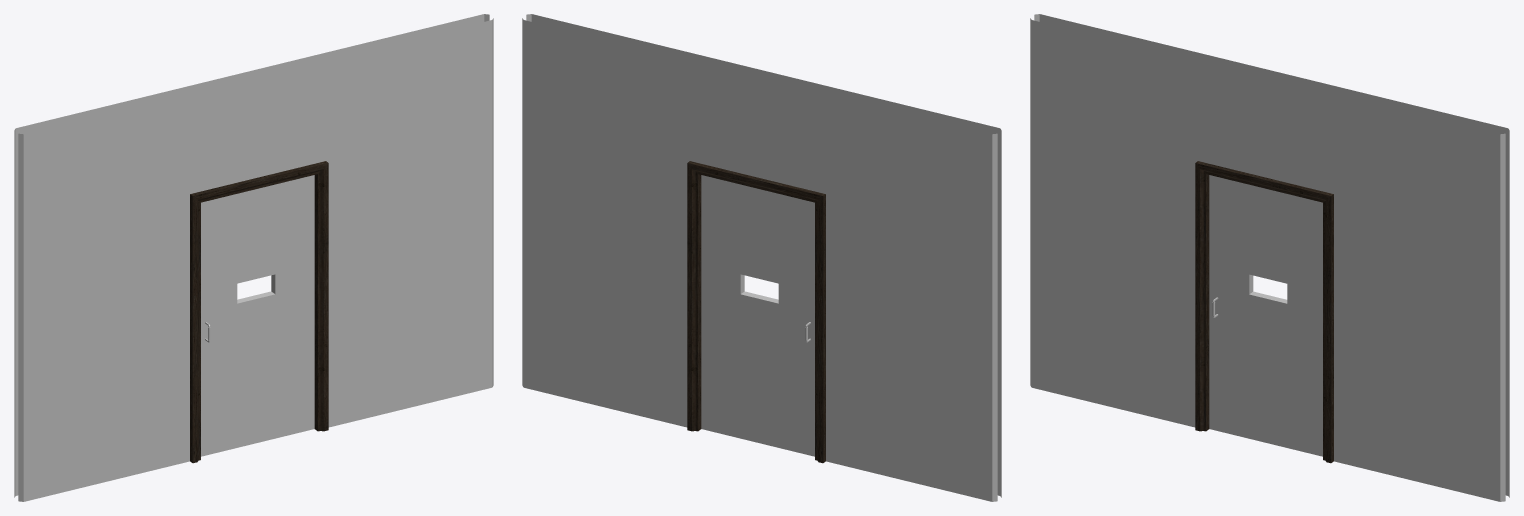
The model's file is doorway_1_plain.fbx.
3 renders of one model, left to right at view 1: azimuth 30°, elevation 25°; view 2: azimuth 150°, elevation 25°; view 3: azimuth 330°, elevation 25°, orthographic.
Visible parts, largest first — view 1: doorway_1_plain, door_mp_6; view 2: doorway_1_plain, door_mp_6; view 3: doorway_1_plain, door_mp_6.
Part boxes in pixels (x1=…): doorway_1_plain: x1=14, y1=14, x2=493, y2=501; door_mp_6: x1=201, y1=175, x2=314, y2=456; doorway_1_plain: x1=522, y1=14, x2=1001, y2=501; door_mp_6: x1=701, y1=175, x2=814, y2=456; doorway_1_plain: x1=1030, y1=14, x2=1509, y2=501; door_mp_6: x1=1209, y1=175, x2=1322, y2=456.
Size of the model in its own units: 4.06 by 3 by 0.2.
